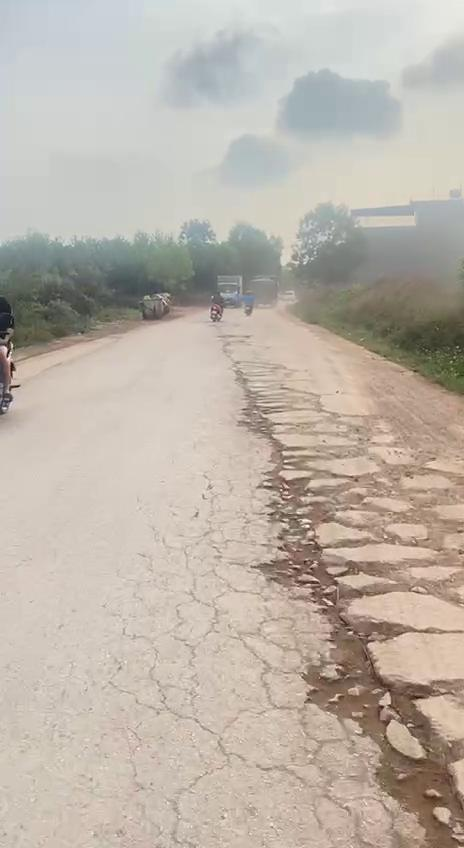pothole: (304, 614, 464, 846), (251, 479, 395, 614), (236, 376, 336, 484)
